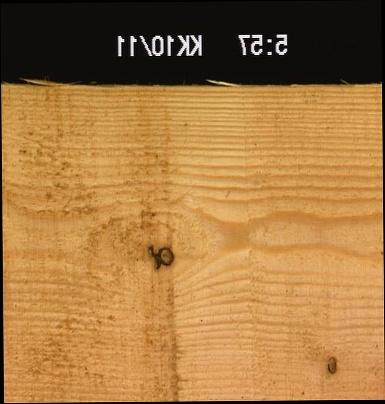dry_knot: (325, 353, 337, 375)
